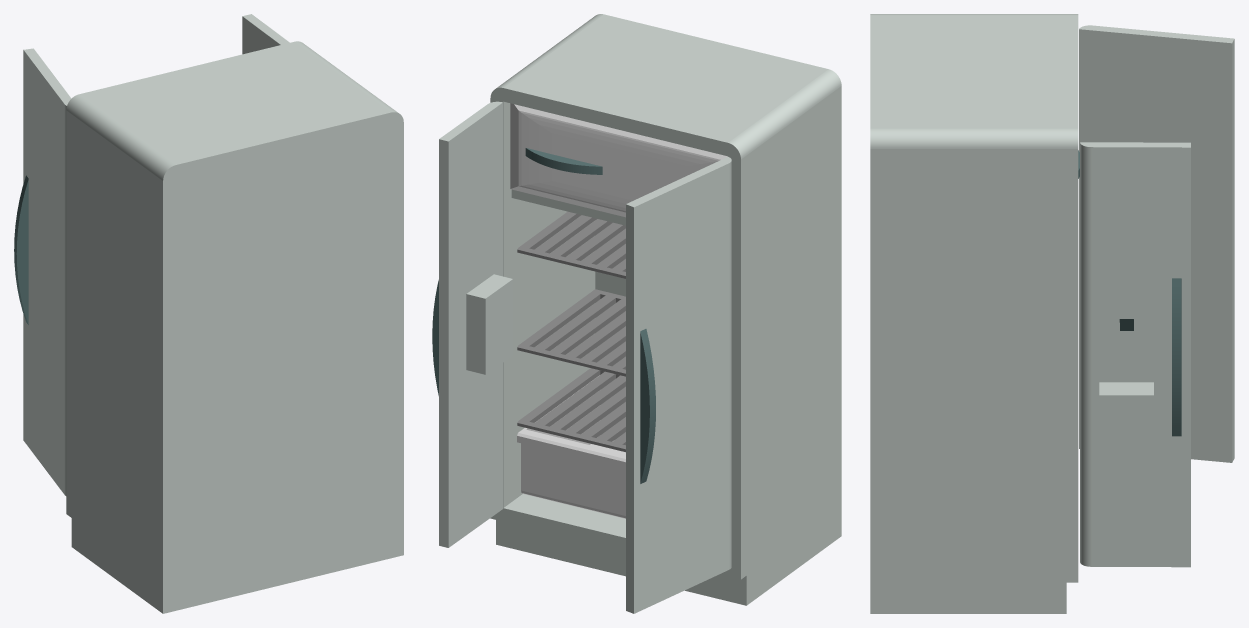
The model's file is fridge.fbx.
The picture shows the model from 3 angles, left to right: view 1: azimuth 30°, elevation 25°; view 2: azimuth 150°, elevation 25°; view 3: azimuth 270°, elevation 25°; orthographic projection. The views are drawn at different scales.
Parts seen in each view (by area): view 1: kitchenFridgeLarge, doorRight, doorLeft; view 2: kitchenFridgeLarge, doorRight, doorLeft, Cube, Cube.005, Cube.003, Cube.004, Cube.002; view 3: kitchenFridgeLarge, doorLeft, doorRight.
Boxes of the visible parts, bbox=[...] form: kitchenFridgeLarge: bbox=[66, 41, 403, 613]; doorRight: bbox=[14, 48, 71, 495]; doorLeft: bbox=[242, 14, 289, 54]; kitchenFridgeLarge: bbox=[490, 14, 841, 605]; doorRight: bbox=[626, 157, 731, 613]; doorLeft: bbox=[432, 101, 512, 547]; Cube: bbox=[510, 103, 727, 217]; Cube.005: bbox=[517, 375, 625, 518]; Cube.003: bbox=[517, 289, 625, 376]; Cube.004: bbox=[517, 368, 625, 452]; Cube.002: bbox=[517, 211, 625, 278]; kitchenFridgeLarge: bbox=[870, 14, 1078, 613]; doorLeft: bbox=[1080, 142, 1190, 567]; doorRight: bbox=[1079, 25, 1234, 462].
Bounding box in the file's own units: 53.7 × 92 × 63.43.
